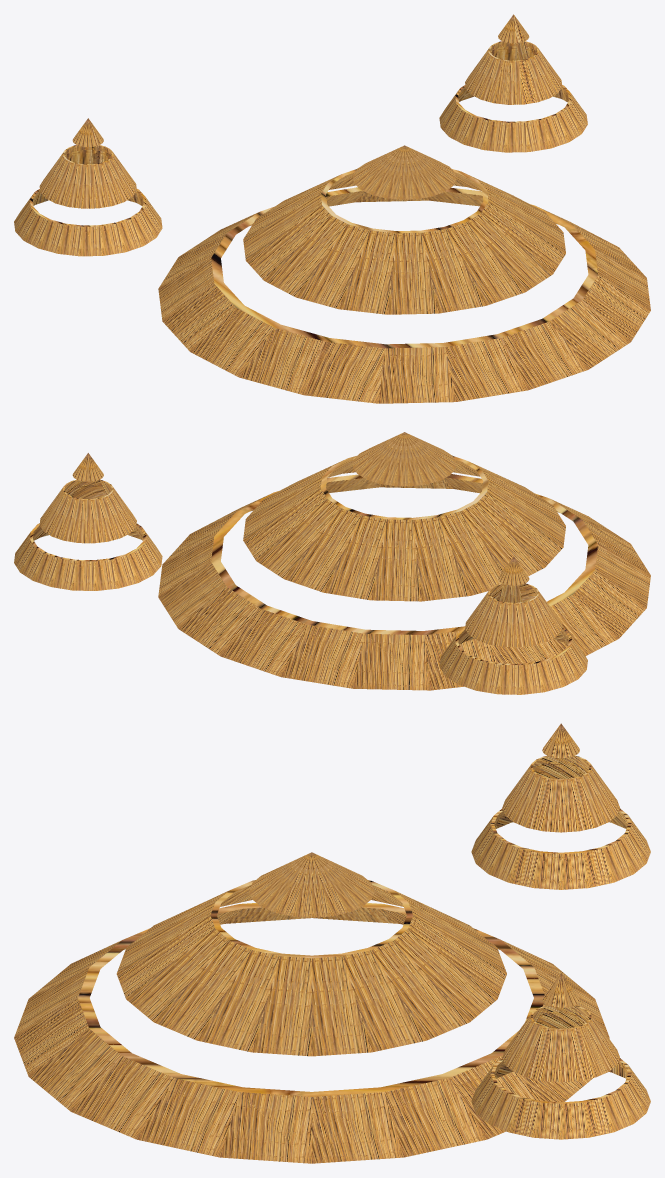
The model's file is Paja.obj.
3 renders of one model, top to bottom at view 1: azimuth 30°, elevation 25°; view 2: azimuth 150°, elevation 25°; view 3: azimuth 270°, elevation 25°, orthographic. The views are drawn at different scales.
Parts seen in each view (by area): view 1: Paja; view 2: Paja; view 3: Paja.
Boxes of the visible parts, x1,y1,x2,y2 form: Paja: [14, 14, 650, 403]; Paja: [14, 432, 650, 694]; Paja: [14, 723, 650, 1163].
Bounding box in the file's own units: 28955 × 7869 × 23942.
Materials: 1 (1 with a texture image).
